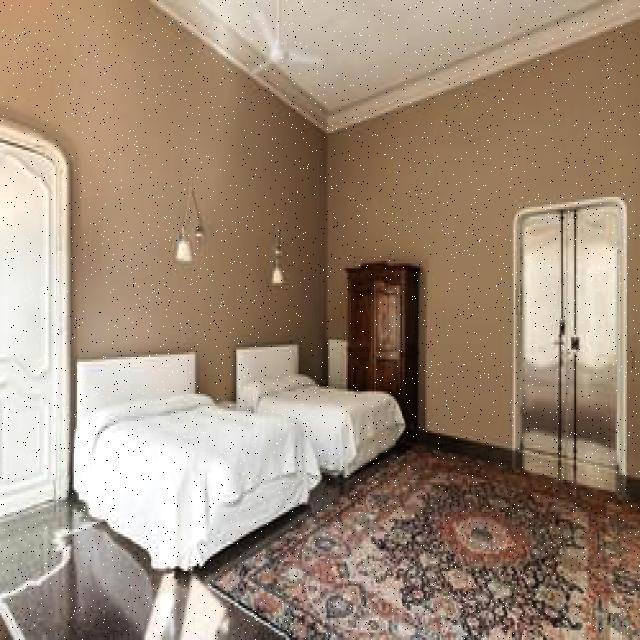bed: (81, 370, 292, 544), (275, 362, 393, 466)
